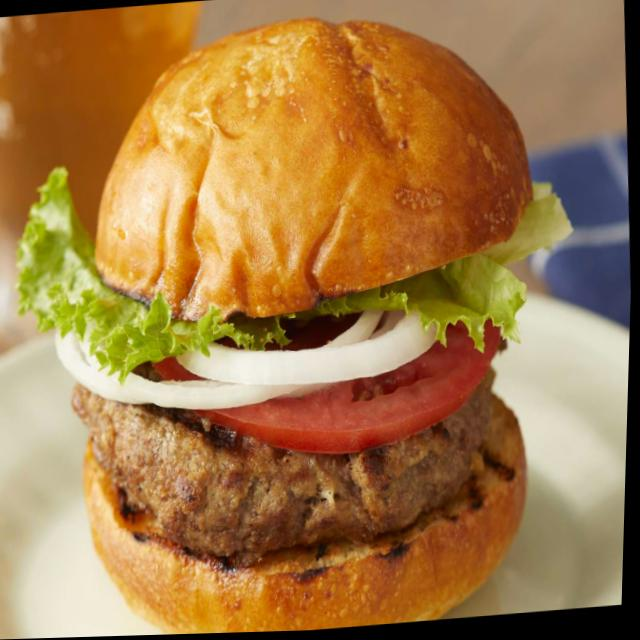burger: (55, 7, 571, 638)
